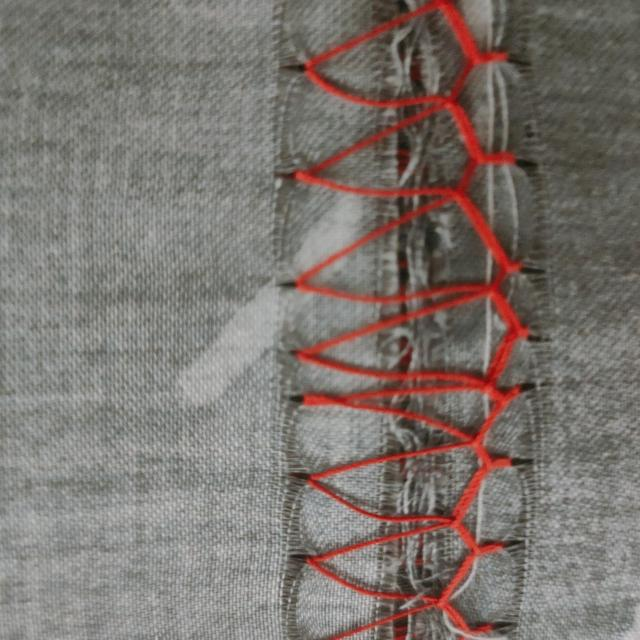gray stitch: (282, 2, 532, 640)
